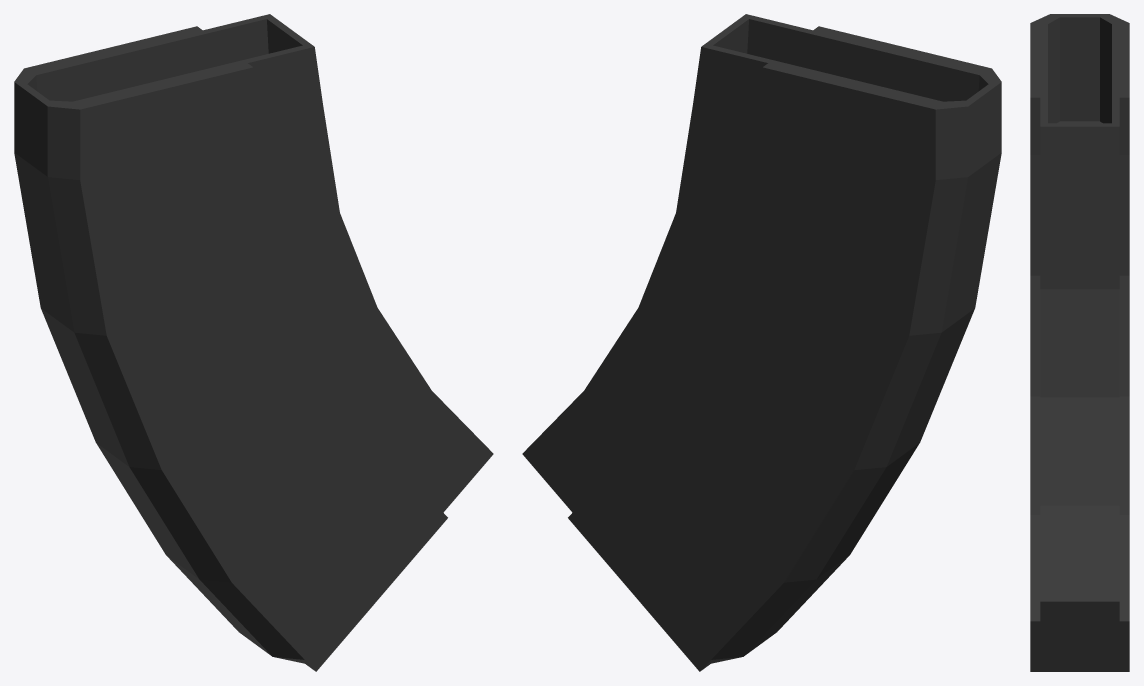
Rendered from AssaultRifle1_05_3.fbx.
The picture shows the model from 3 angles, left to right: view 1: azimuth 30°, elevation 25°; view 2: azimuth 150°, elevation 25°; view 3: azimuth 270°, elevation 25°; orthographic projection. The views are drawn at different scales.
Visible parts, largest first — view 1: AssaultRifle1_05_3; view 2: AssaultRifle1_05_3; view 3: AssaultRifle1_05_3.
Part boxes in pixels (box(x1,y1,x2,y2)): AssaultRifle1_05_3: box(14, 14, 493, 671); AssaultRifle1_05_3: box(522, 14, 1001, 671); AssaultRifle1_05_3: box(1030, 14, 1129, 671).
Bounding box in the file's own units: 0.1176 × 0.1581 × 0.026.
